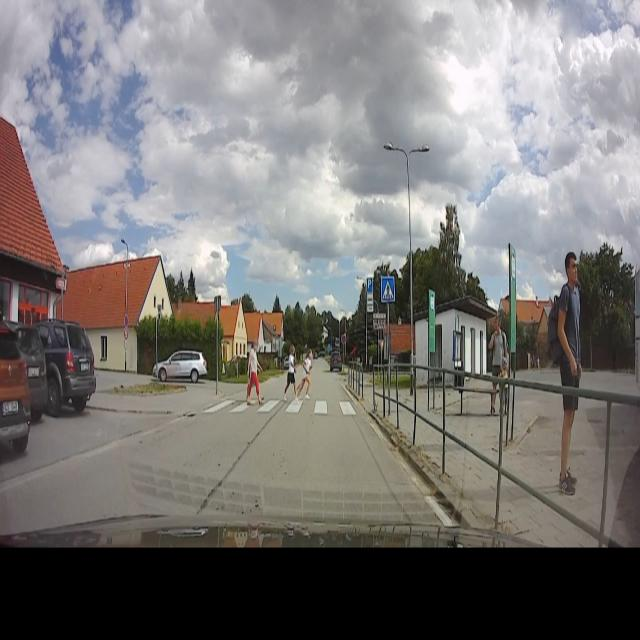Pedestrian crosswalk: (203, 396, 361, 414), (381, 275, 396, 303)
Person: (548, 241, 586, 500), (489, 302, 513, 417), (246, 338, 264, 408), (298, 345, 316, 400), (284, 341, 296, 408)
